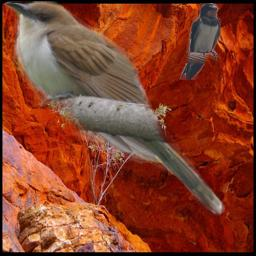Cuckoo: (4, 1, 225, 216)
Swallow: (180, 3, 221, 80)
